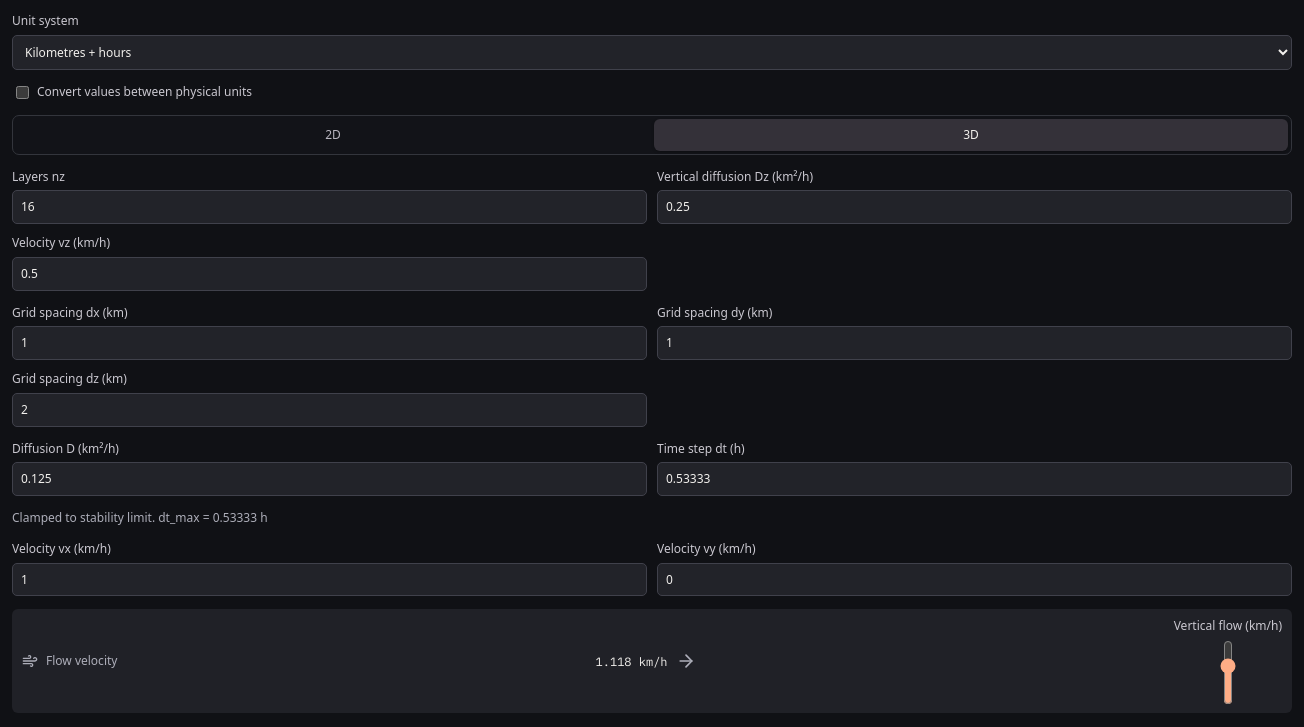
Test: relabels by default and converts every dimensional quantity only on request
Earlier steps of the test are not shown.
Later steps or results of the test are not shown.
Replace the text in the number field labelled "Velocity vy (km/h)" with "-2". click: (974, 579)
box: [657,562,1292,596]
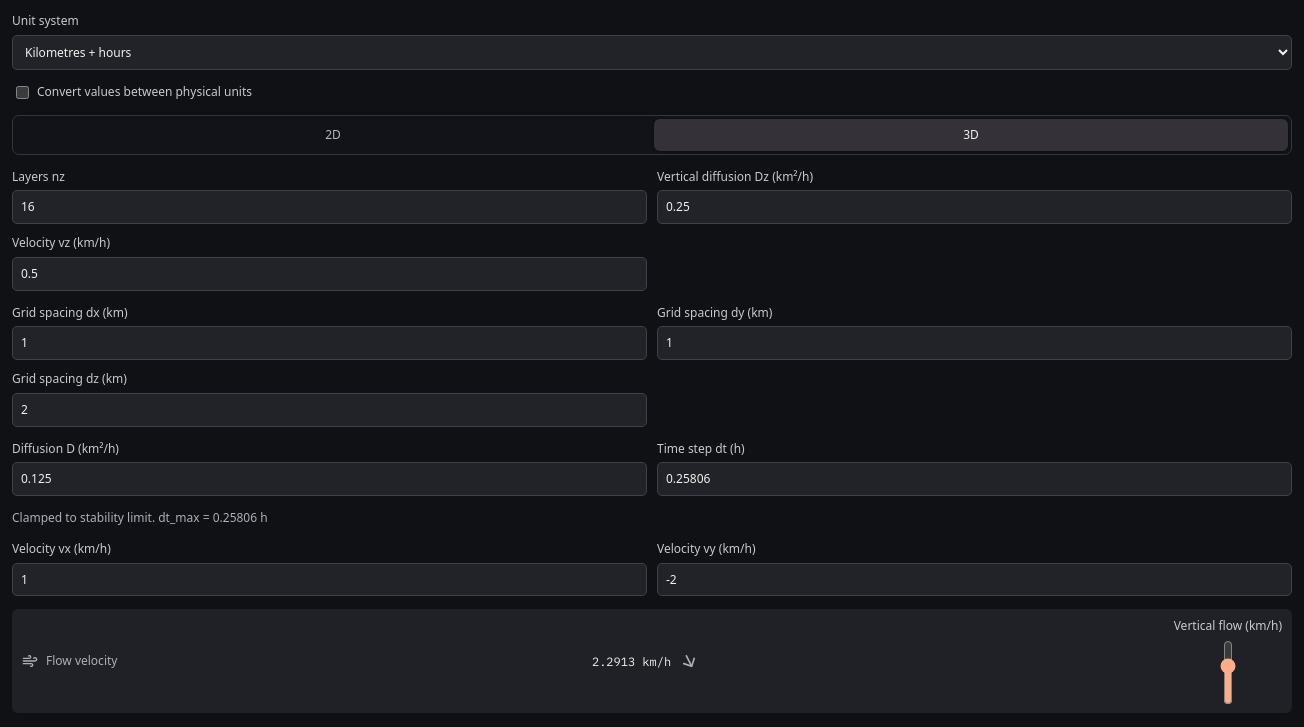
Replace the text in the number field labelled "Time step dt (h)" with "0.1". click: (974, 479)
box: [657,462,1292,496]
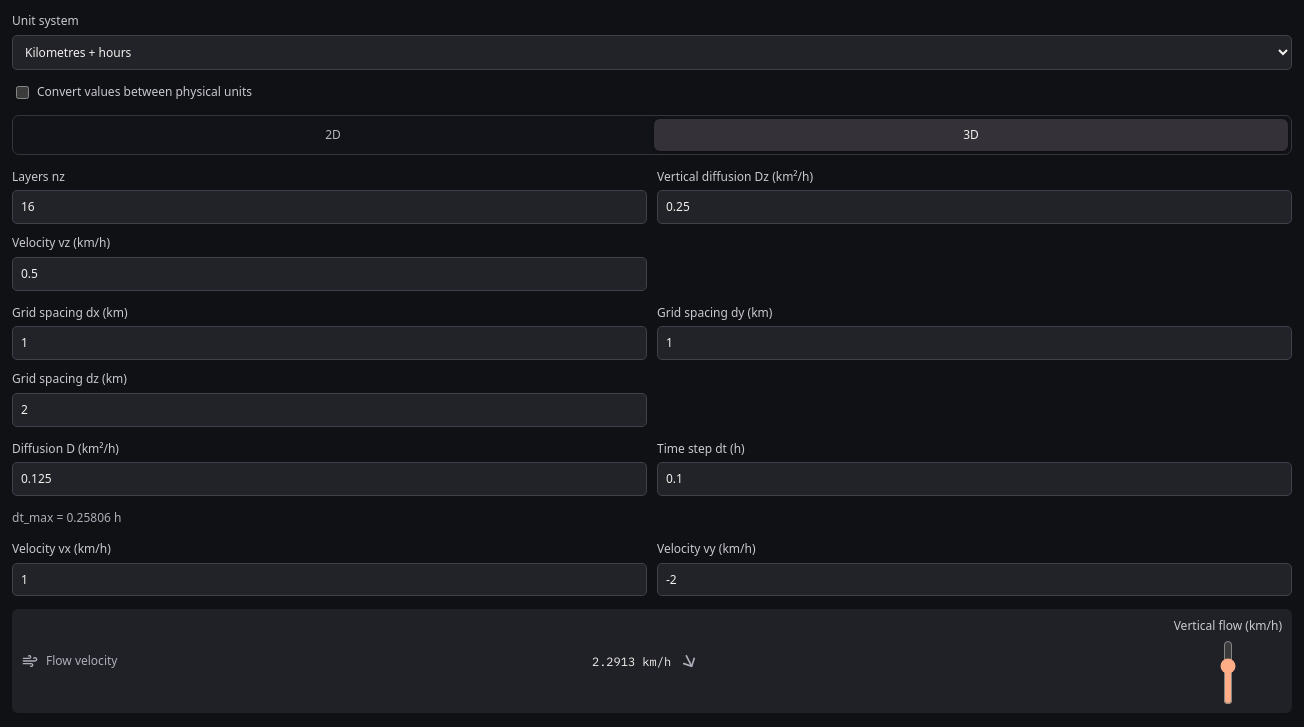
Select "Metres + seconds" in the dropdown labelled "Unit system". click: (652, 52)
box: [12,35,1292,70]
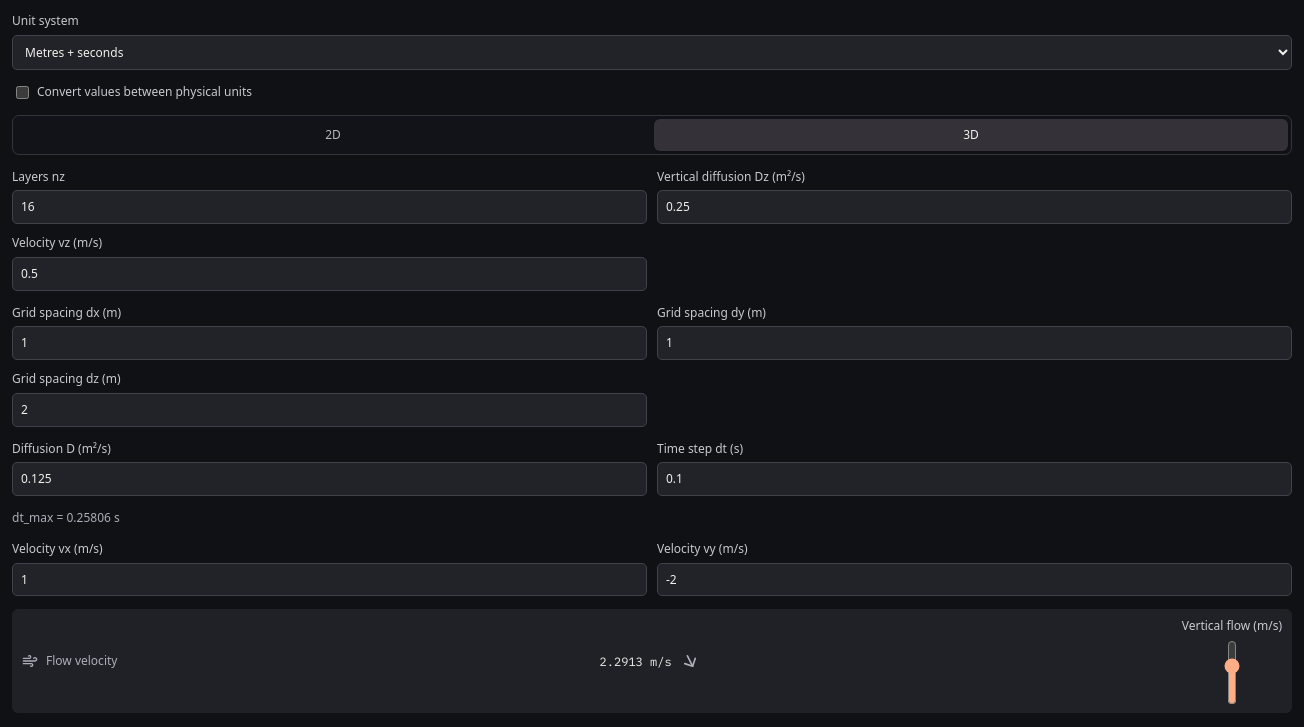
Select "Kilometres + hours" in the dropdown labelled "Unit system". click: (652, 52)
box: [12,35,1292,70]
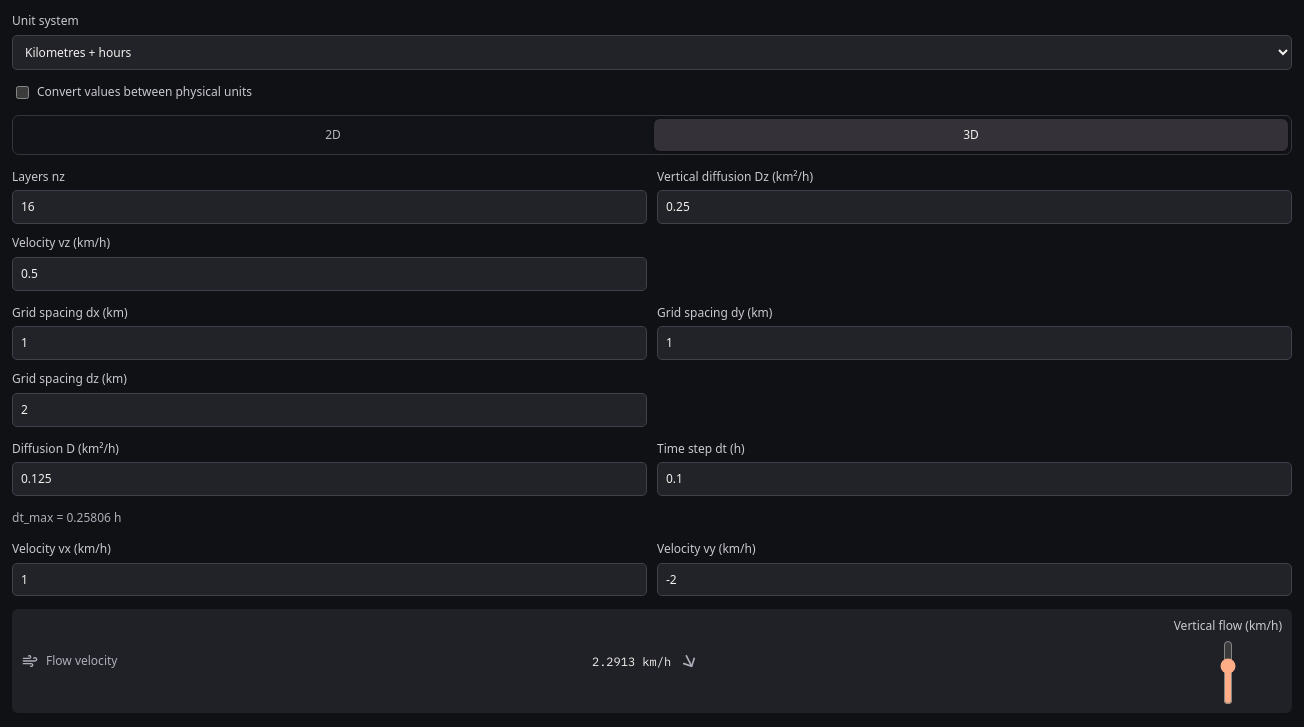
Click the checkbox labelled "Convert values between physical units". click: click(22, 92)
box: [16,86,29,99]
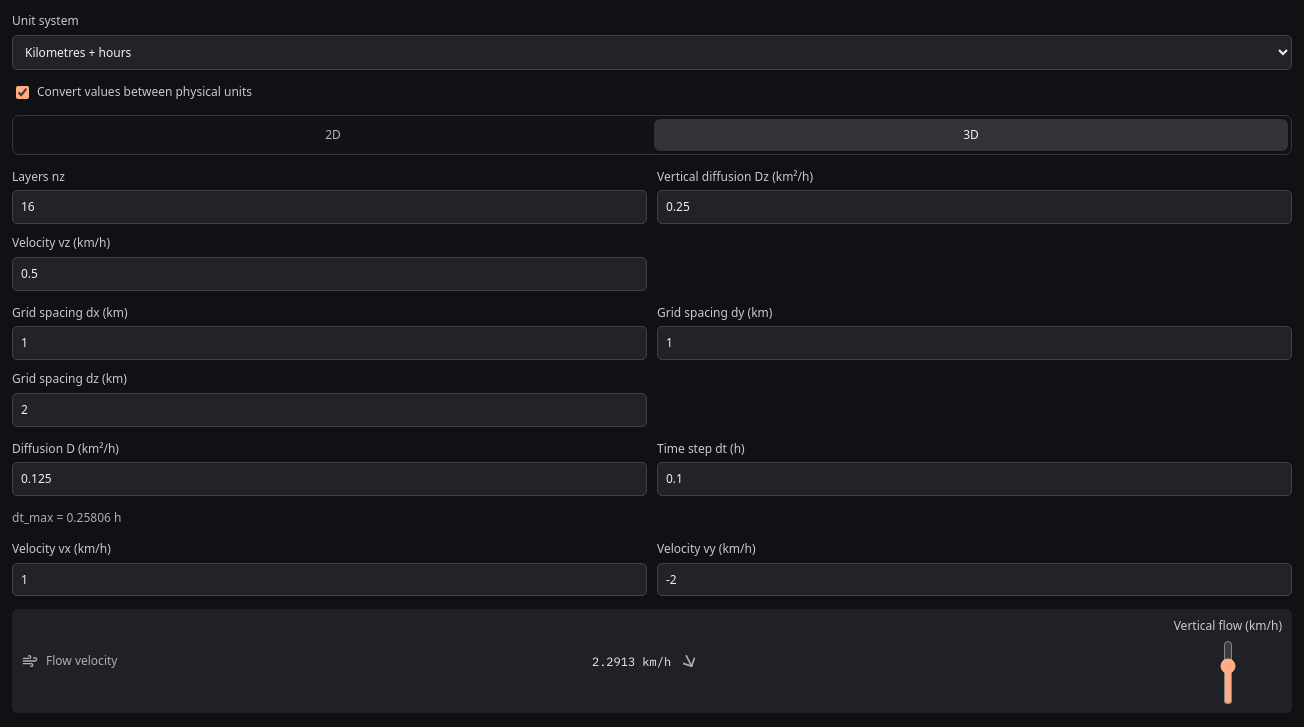
Select "Metres + seconds" in the dropdown labelled "Unit system". click: (652, 52)
box: [12,35,1292,70]
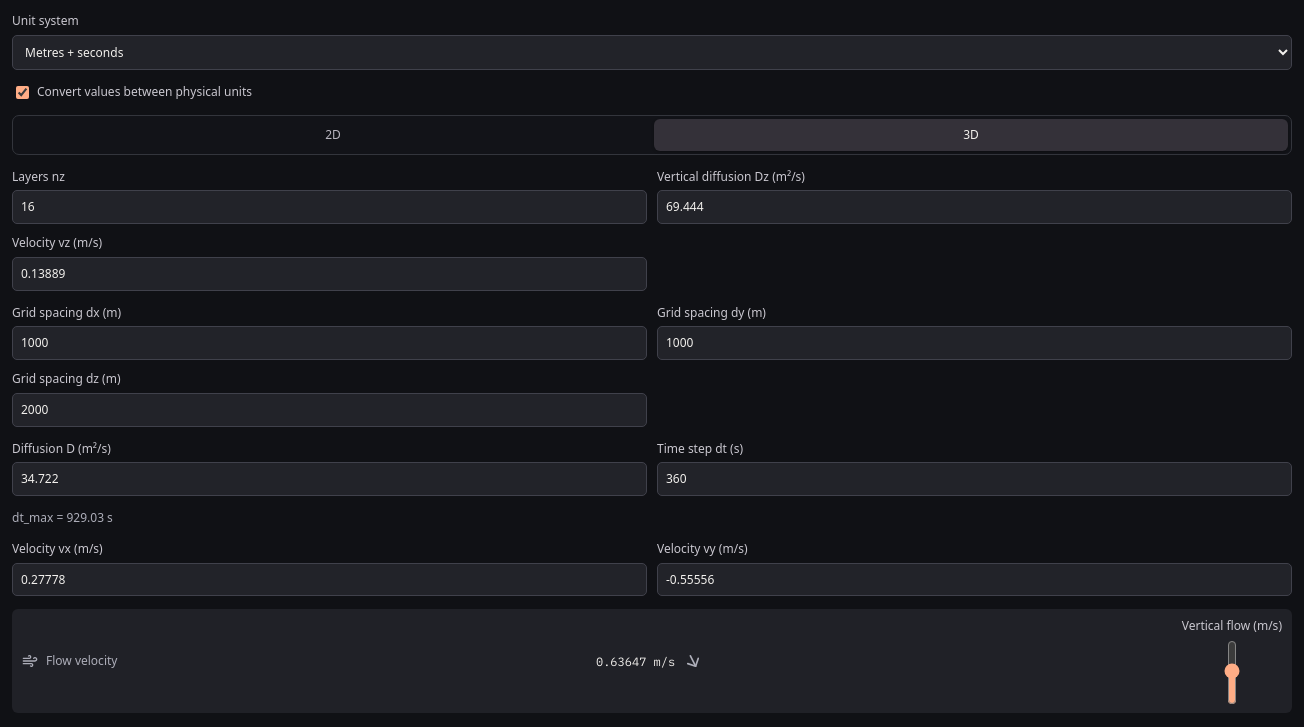
Result: the number field labelled "Grid spacing dx (m)" holds "1000" at [12,326,647,360]
Result: the number field labelled "Grid spacing dy (m)" holds "1000" at [657,326,1292,360]
Result: the number field labelled "Grid spacing dz (m)" holds "2000" at [12,393,647,427]
